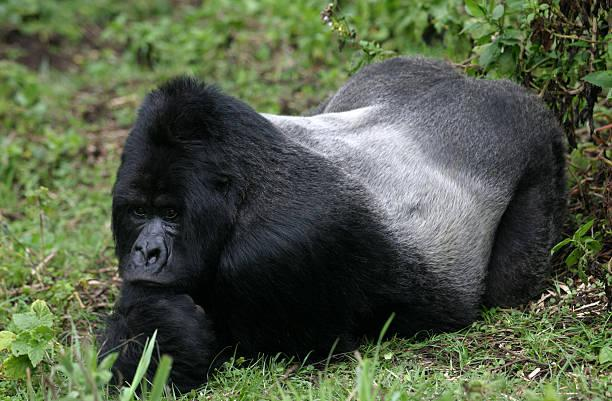gorille_Autres: (62, 30, 595, 370)
